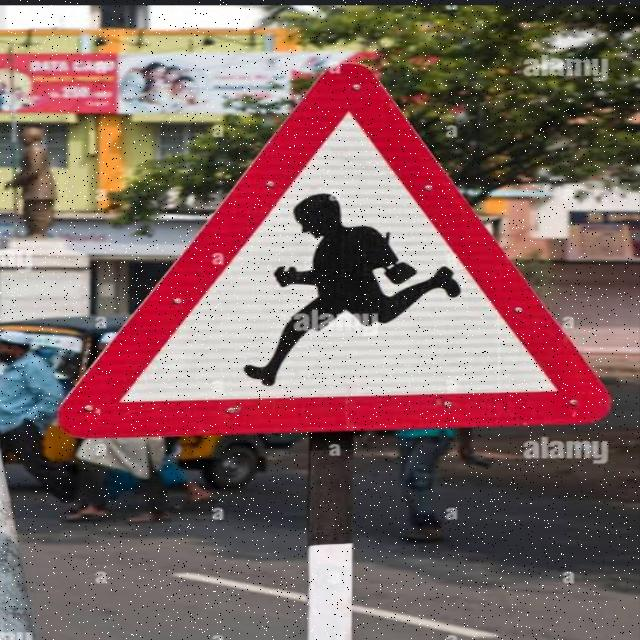school_ahead: (48, 62, 611, 435)
